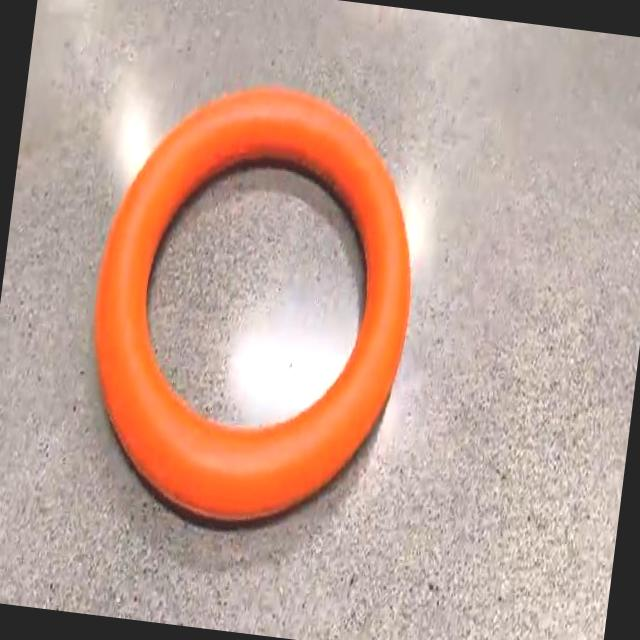note: (94, 88, 410, 519)
